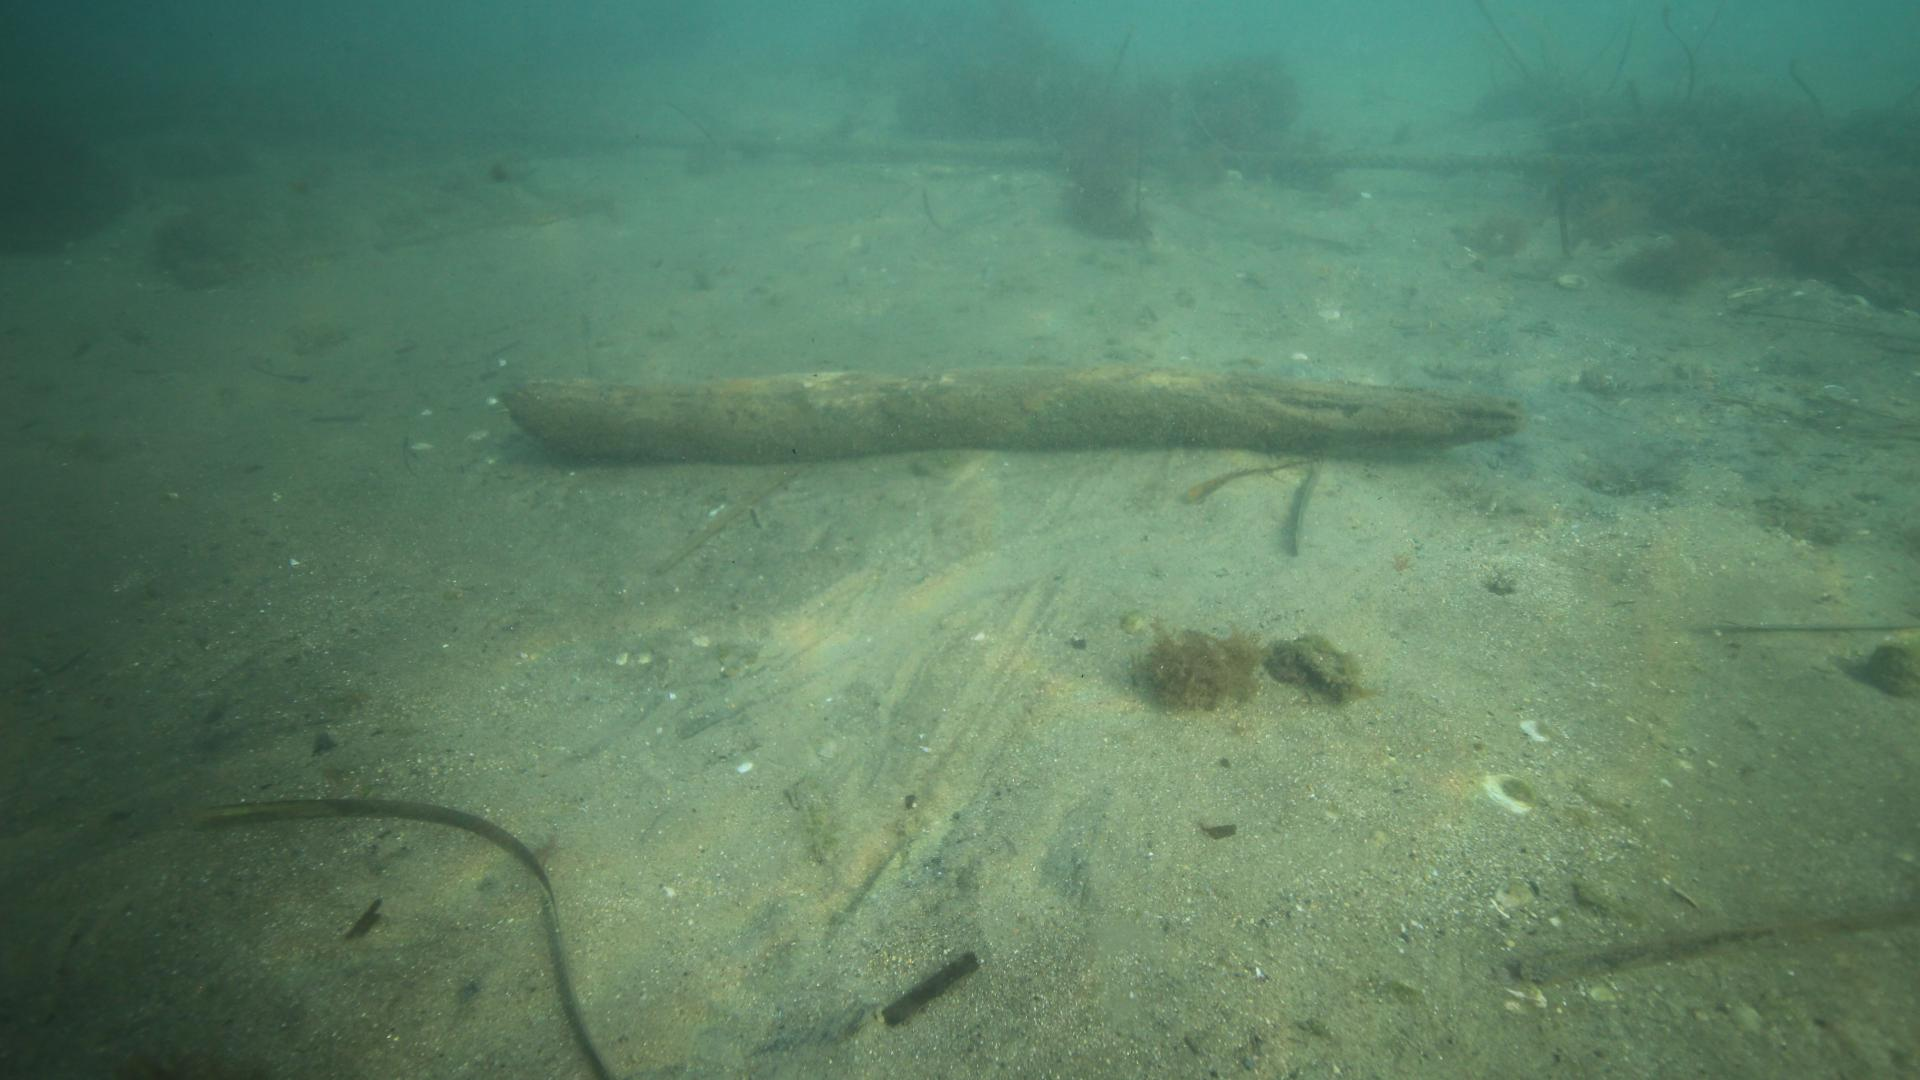wood: (497, 375, 1526, 451)
